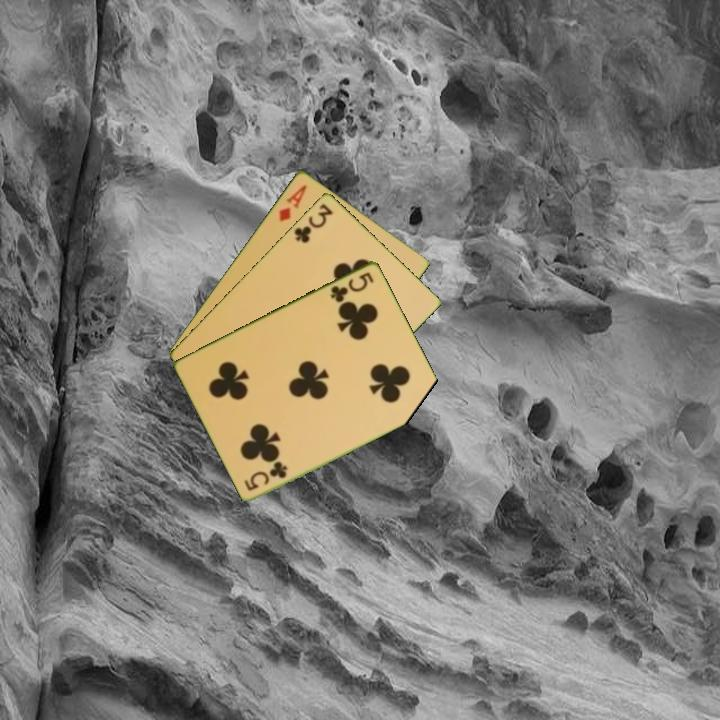3c: (290, 200, 336, 246)
5c: (327, 268, 377, 305), (241, 458, 290, 493)
Ad: (275, 180, 310, 224)
